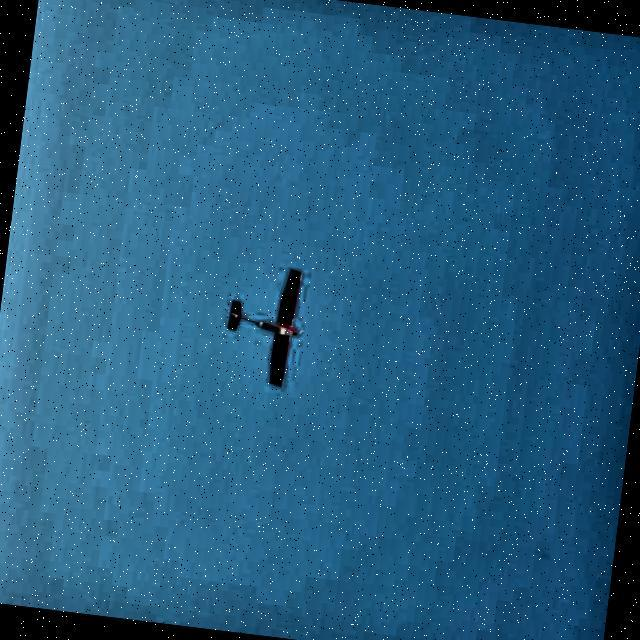iha: (240, 254, 280, 395)
